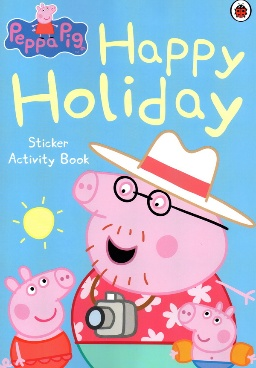Peppa: (2, 263, 77, 368)
